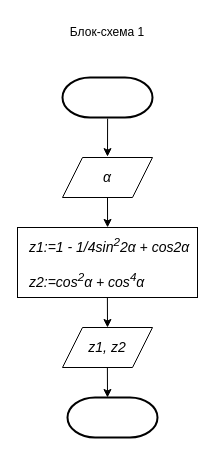
The diagram is 215 pixels wide and 455 high, and some of its shapes have lost their labels. The centre of each missing label's shape, as x and y in pixels:
"Конец" goes at point (112, 417).
"Начало" goes at point (107, 97).
